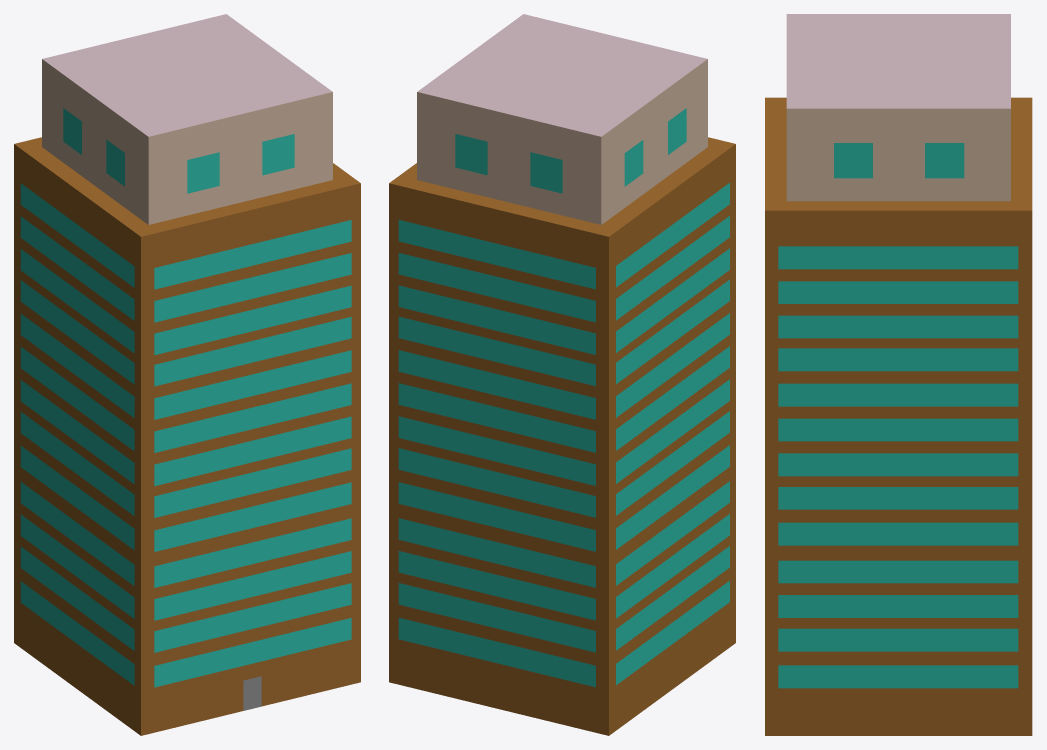
The model's file is Skyscraper3.fbx.
3 renders of one model, left to right at view 1: azimuth 30°, elevation 25°; view 2: azimuth 150°, elevation 25°; view 3: azimuth 270°, elevation 25°, orthographic. The views are drawn at different scales.
Parts seen in each view (by area): view 1: Skyscraper3; view 2: Skyscraper3; view 3: Skyscraper3.
Boxes of the visible parts, left/top/right/bottom form: Skyscraper3: left=14, top=14, right=360, bottom=735; Skyscraper3: left=389, top=14, right=735, bottom=735; Skyscraper3: left=765, top=14, right=1032, bottom=735.
Bounding box in the file's own units: 250 × 638 × 251.
